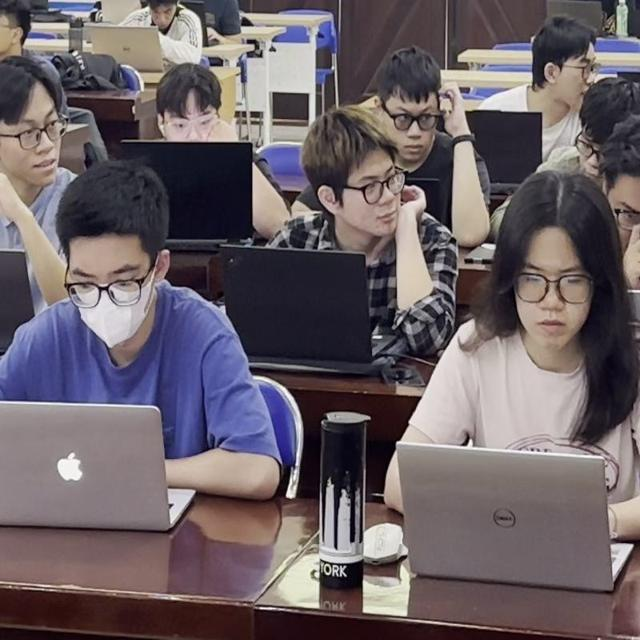Looking away: (48, 161, 176, 355), (502, 175, 626, 374), (356, 33, 485, 167), (298, 111, 415, 245), (519, 17, 608, 124), (0, 59, 60, 199), (146, 61, 237, 147), (574, 77, 632, 174), (0, 0, 38, 54), (142, 0, 183, 34)
